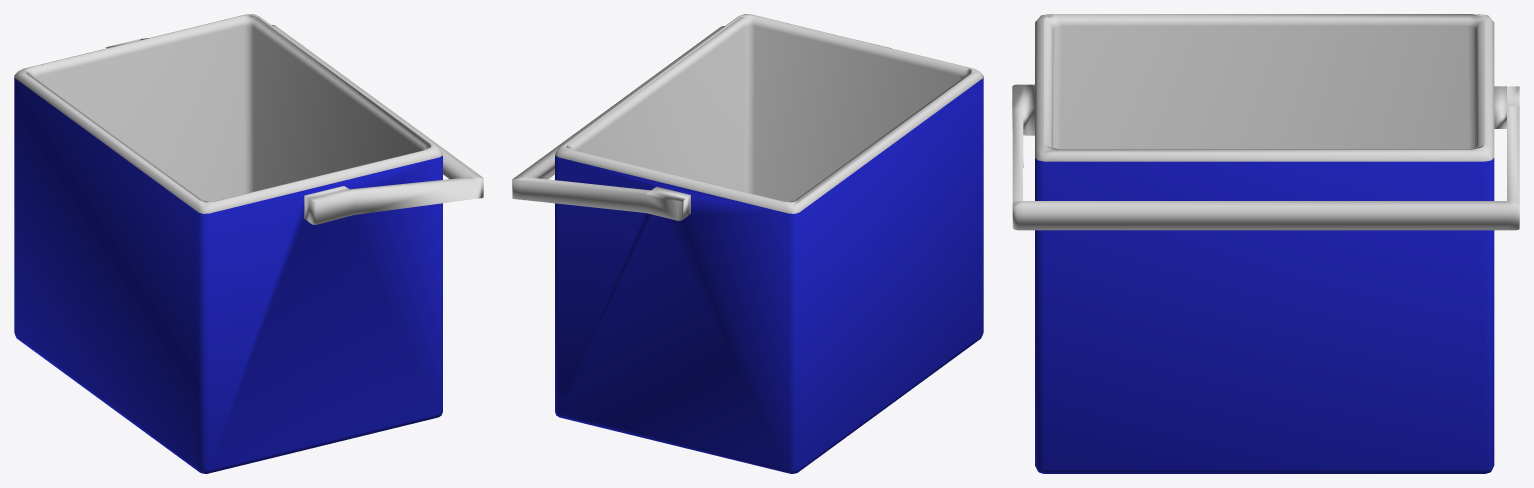
Rendered from picnic_refrigerator.fbx.
3 views of the same model, side by side, from view 1: azimuth 30°, elevation 25°; view 2: azimuth 150°, elevation 25°; view 3: azimuth 270°, elevation 25° (orthographic). The views are drawn at different scales.
Visible parts, largest first — view 1: Cube; view 2: Cube; view 3: Cube.
Boxes of the visible parts, x1,y1,x2,y2 form: Cube: (14, 14, 483, 473); Cube: (512, 14, 983, 473); Cube: (1012, 14, 1519, 473).
Size of the model in its own units: 212 by 200 by 283.
